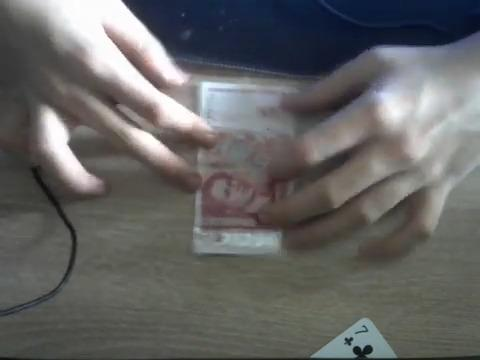5leva: (199, 161, 274, 231), (211, 121, 274, 139)
